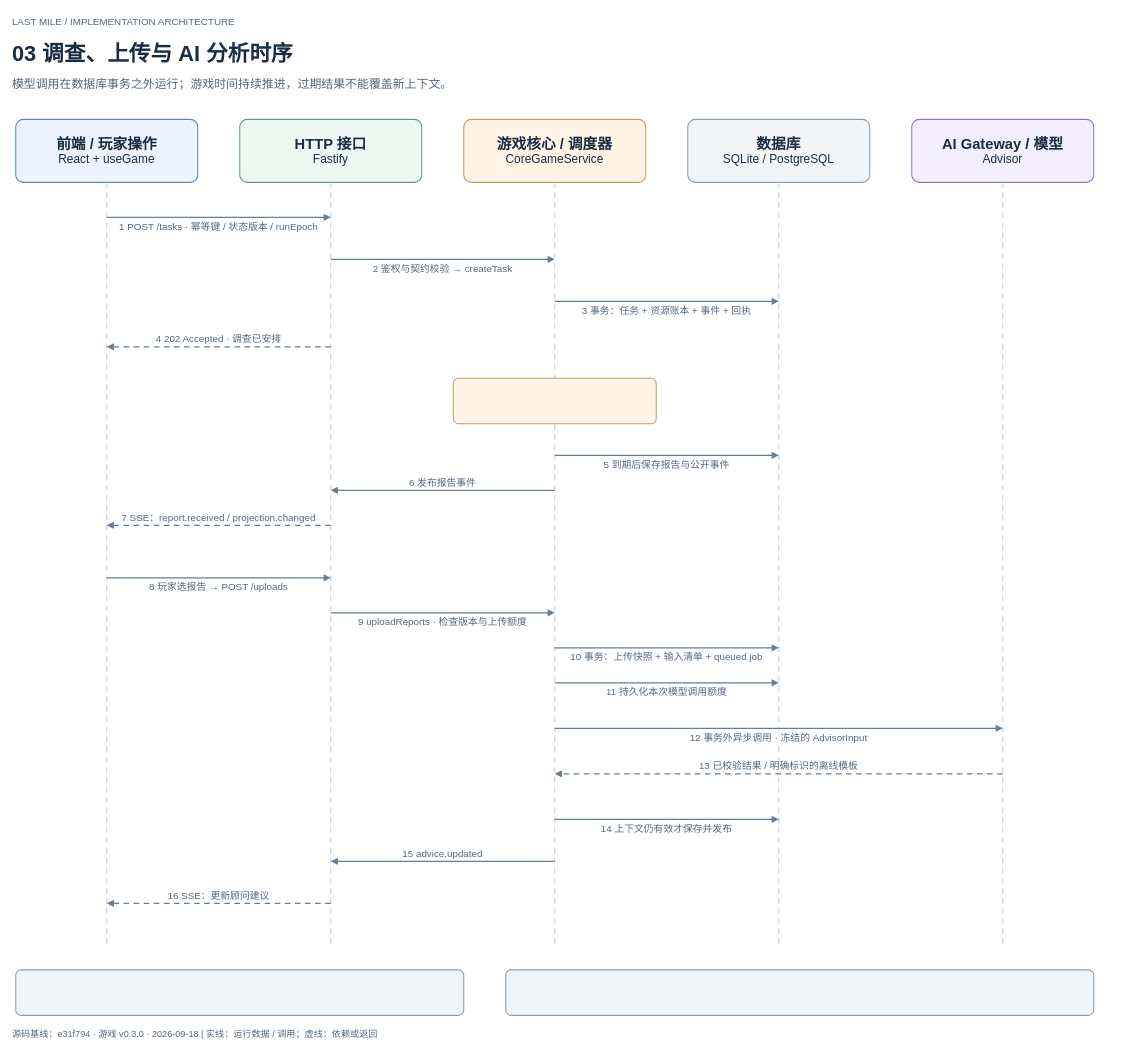
Some shapes in this 1144 by 1054 pixel diagram are drawn without their labels. The shapes that lost their labels are listed below. From the top down, each one's centre as x and y in pixels, then its label:
pixel 554 401: 世界时间继续推进 调度器检查调查是否到期
pixel 239 992: 重复请求 同一幂等键返回原结果，避免重复扣费 / 执行
pixel 799 992: 场景变更 / 上下文更新 / 任务结束 保留调用账本；不发布晚到的 Advisor 结果
